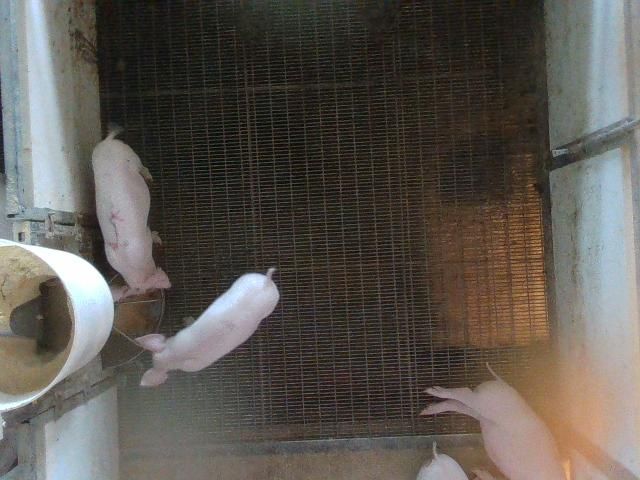pig-5: (92, 129, 171, 301)
